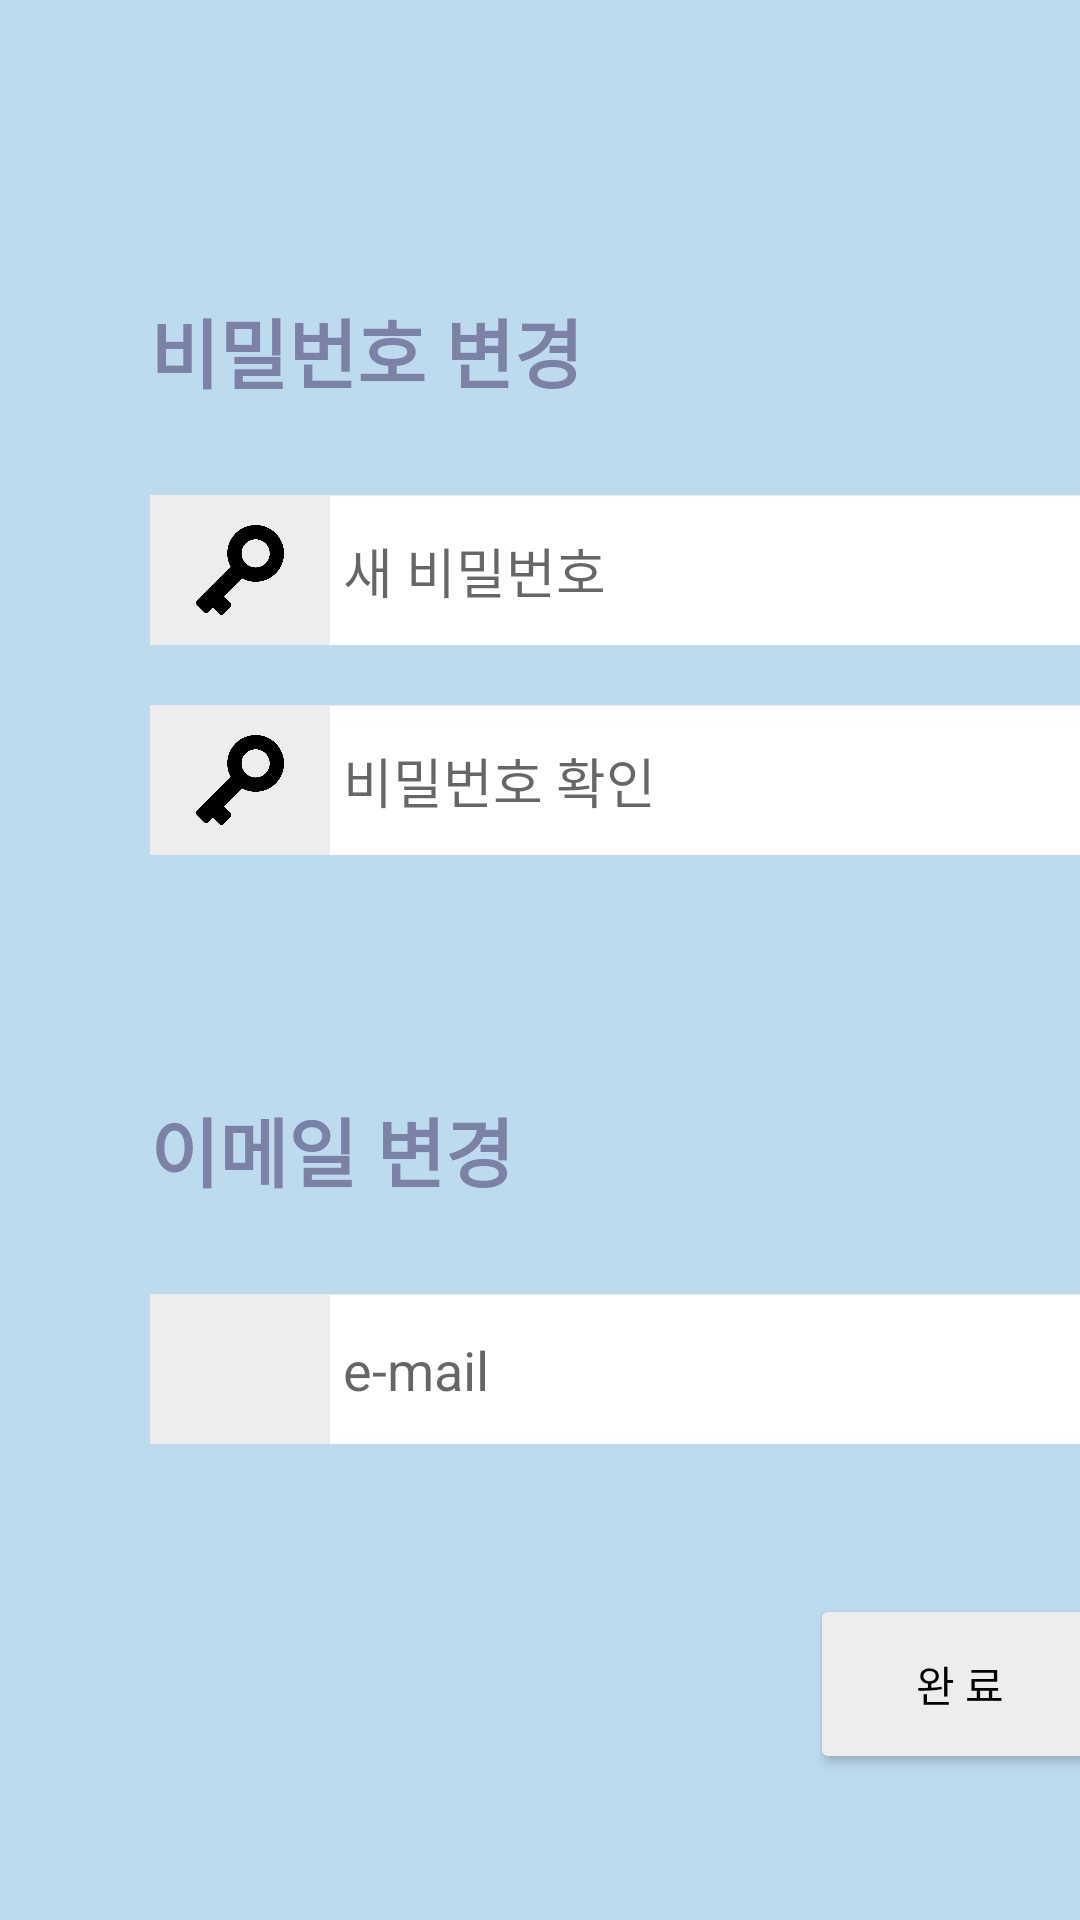

Icons on this 1080px x 1920px Android screen, each with its box as rect(x1, y1, x2, y2):
key: rect(196, 525, 284, 615), rect(196, 735, 284, 825)
